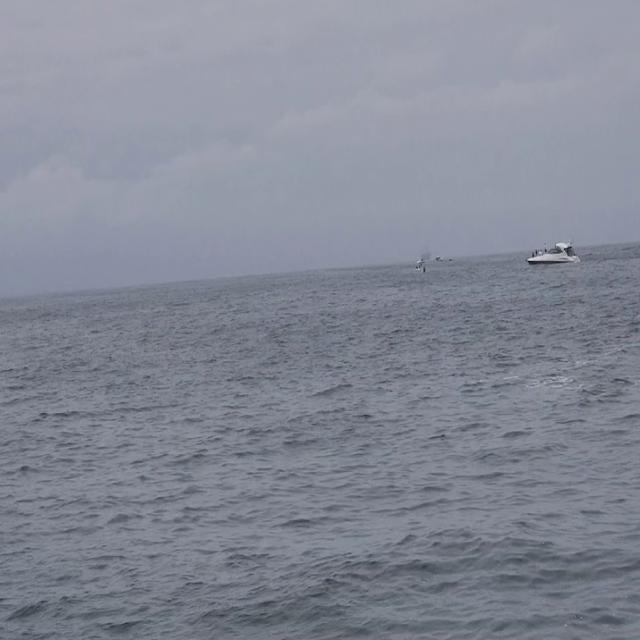houseboat: (525, 231, 583, 269)
